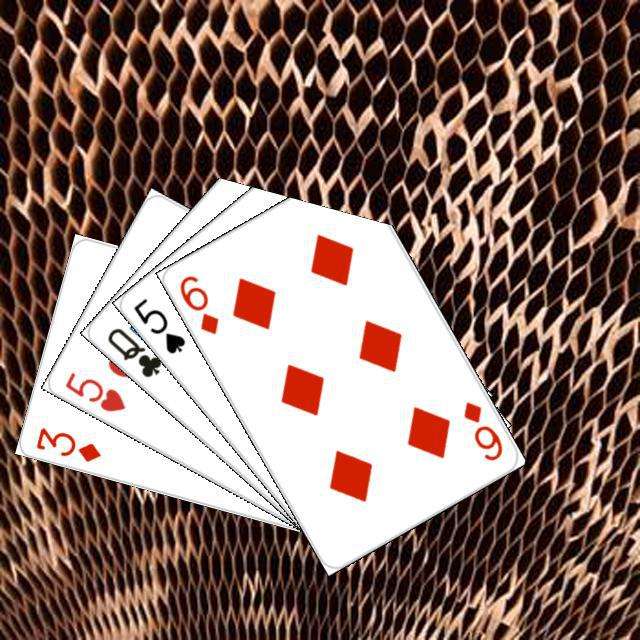3d: (31, 422, 103, 464)
5h: (60, 367, 128, 414)
5s: (128, 293, 187, 356)
6d: (174, 270, 221, 337), (458, 396, 505, 463)
Qc: (102, 319, 176, 380)
